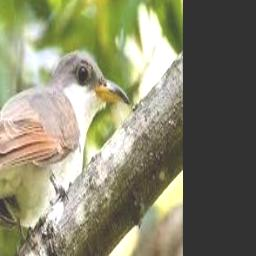Cuckoo: (0, 49, 131, 243)
